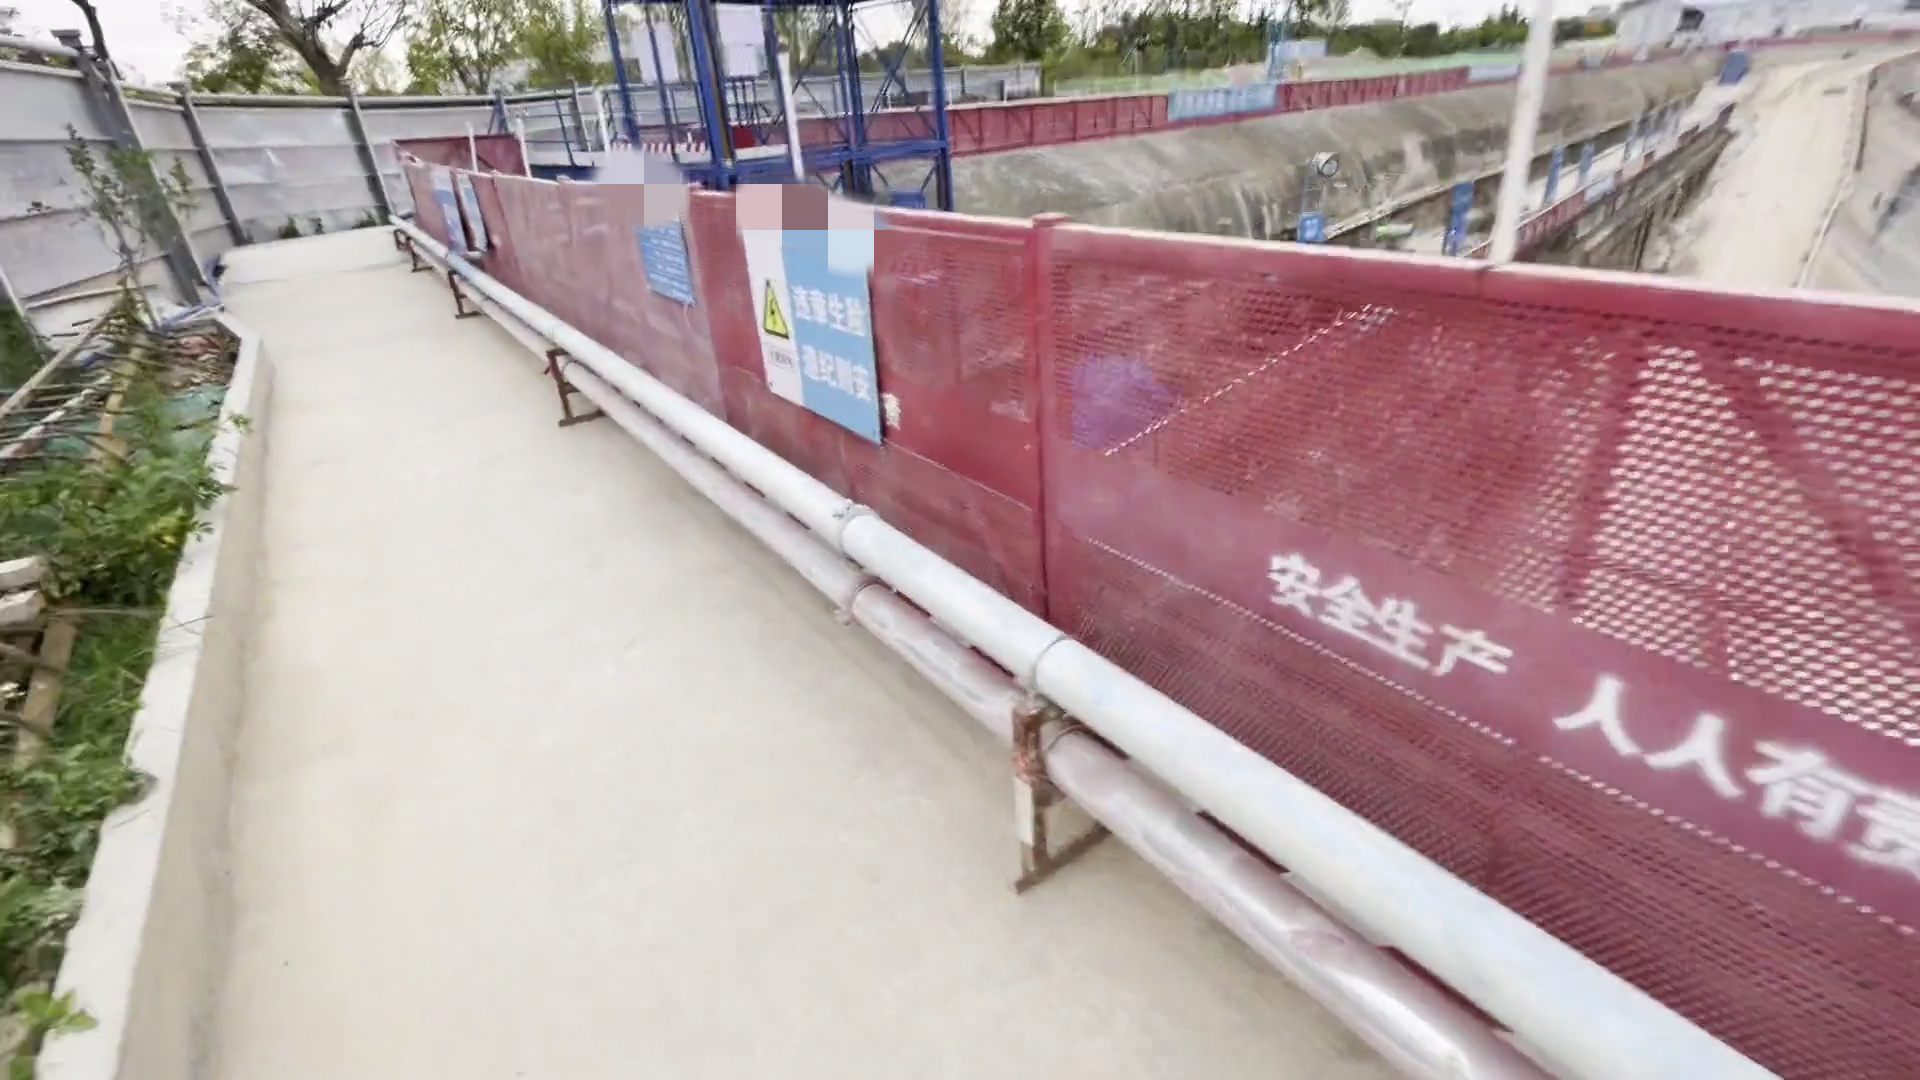fence: (268, 7, 1879, 1052)
slogan: (597, 198, 898, 458), (430, 158, 498, 262), (1168, 76, 1287, 123)
